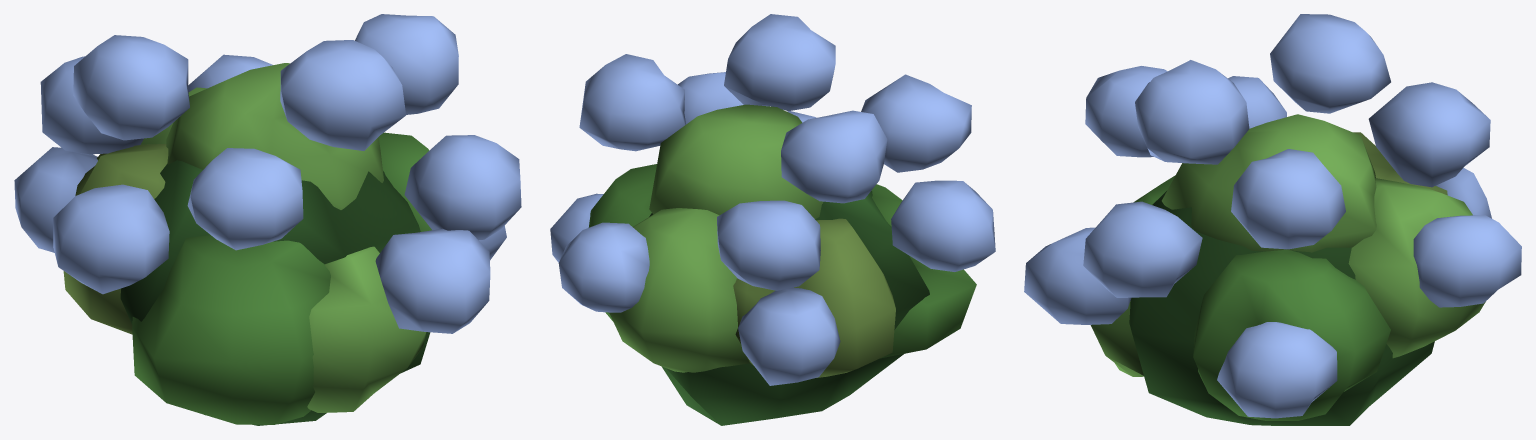
The model's file is hydrangea.glb.
The picture shows the model from 3 angles, left to right: view 1: azimuth 30°, elevation 25°; view 2: azimuth 150°, elevation 25°; view 3: azimuth 270°, elevation 25°; orthographic projection. The views are drawn at different scales.
Parts seen in each view (by area): view 1: hydrangea; view 2: hydrangea; view 3: hydrangea.
Boxes of the visible parts, x1,y1,x2,y2 form: hydrangea: (14,14,521,425); hydrangea: (550,14,995,425); hydrangea: (1024,14,1521,425).
Size of the model in its own units: 1.2 by 0.9567 by 1.18.
